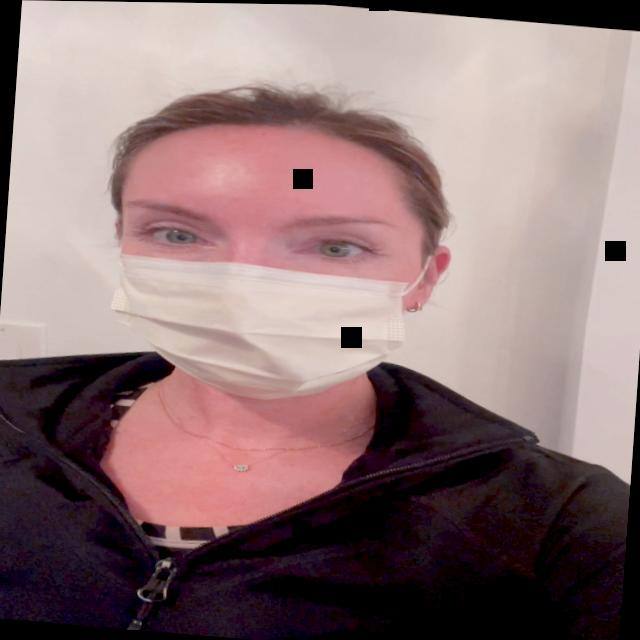Mask: (72, 80, 476, 421)
